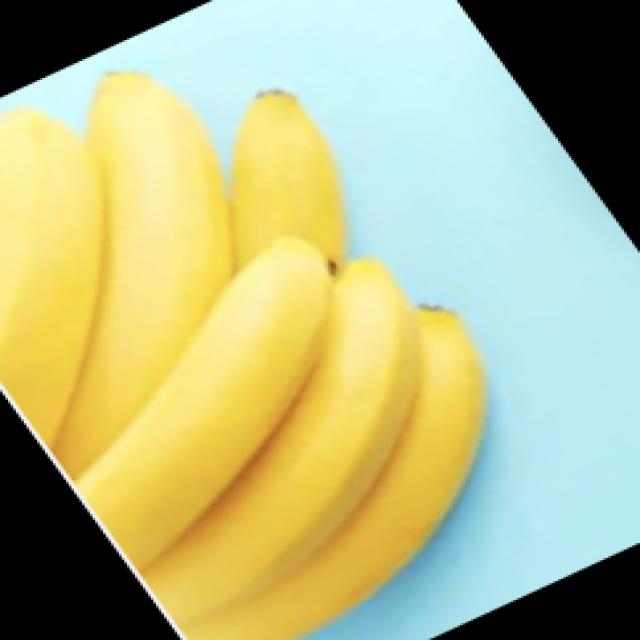god quality banana: (3, 74, 481, 639)
